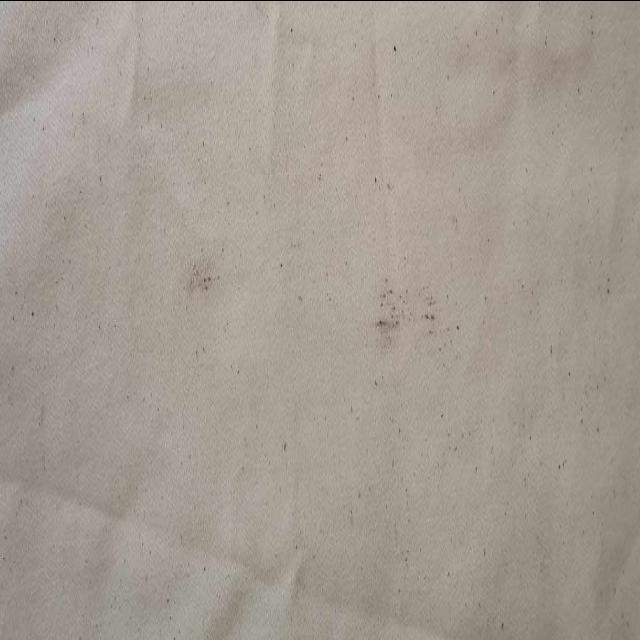taaaches: (362, 268, 464, 369), (170, 238, 240, 332)
